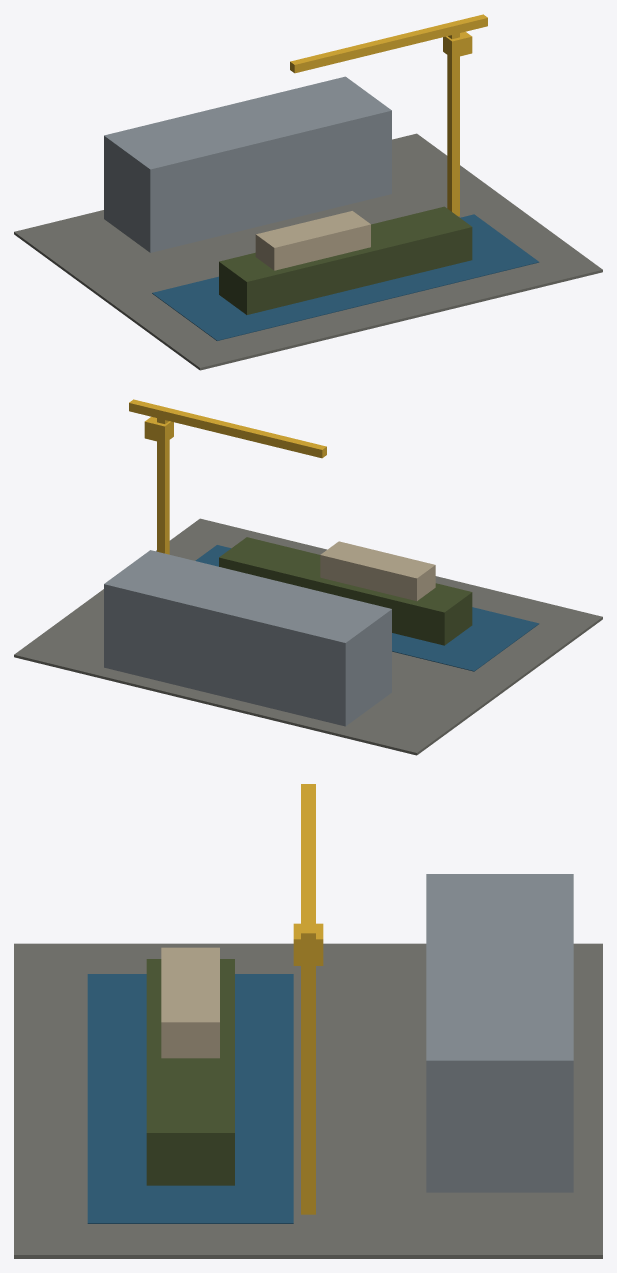
File: shipyard.glb
The picture shows the model from 3 angles, top to bottom: view 1: azimuth 30°, elevation 25°; view 2: azimuth 150°, elevation 25°; view 3: azimuth 270°, elevation 25°; orthographic projection. The views are drawn at different scales.
Parts seen in each view (by area): view 1: shipyard, Crane; view 2: shipyard, Crane; view 3: shipyard, Crane.
Part boxes in pixels (x1,y1,x2,y2): shipyard: (14, 76, 602, 370); Crane: (290, 14, 487, 216); shipyard: (14, 518, 602, 755); Crane: (129, 399, 326, 554); shipyard: (14, 874, 602, 1258); Crane: (293, 784, 323, 1214).
Size of the model in its own units: 50 by 23 by 40.
